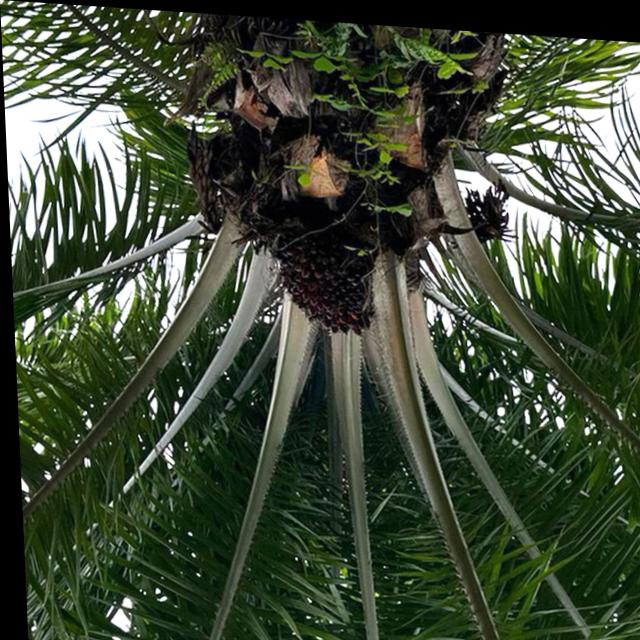ripe: (274, 232, 375, 344)
